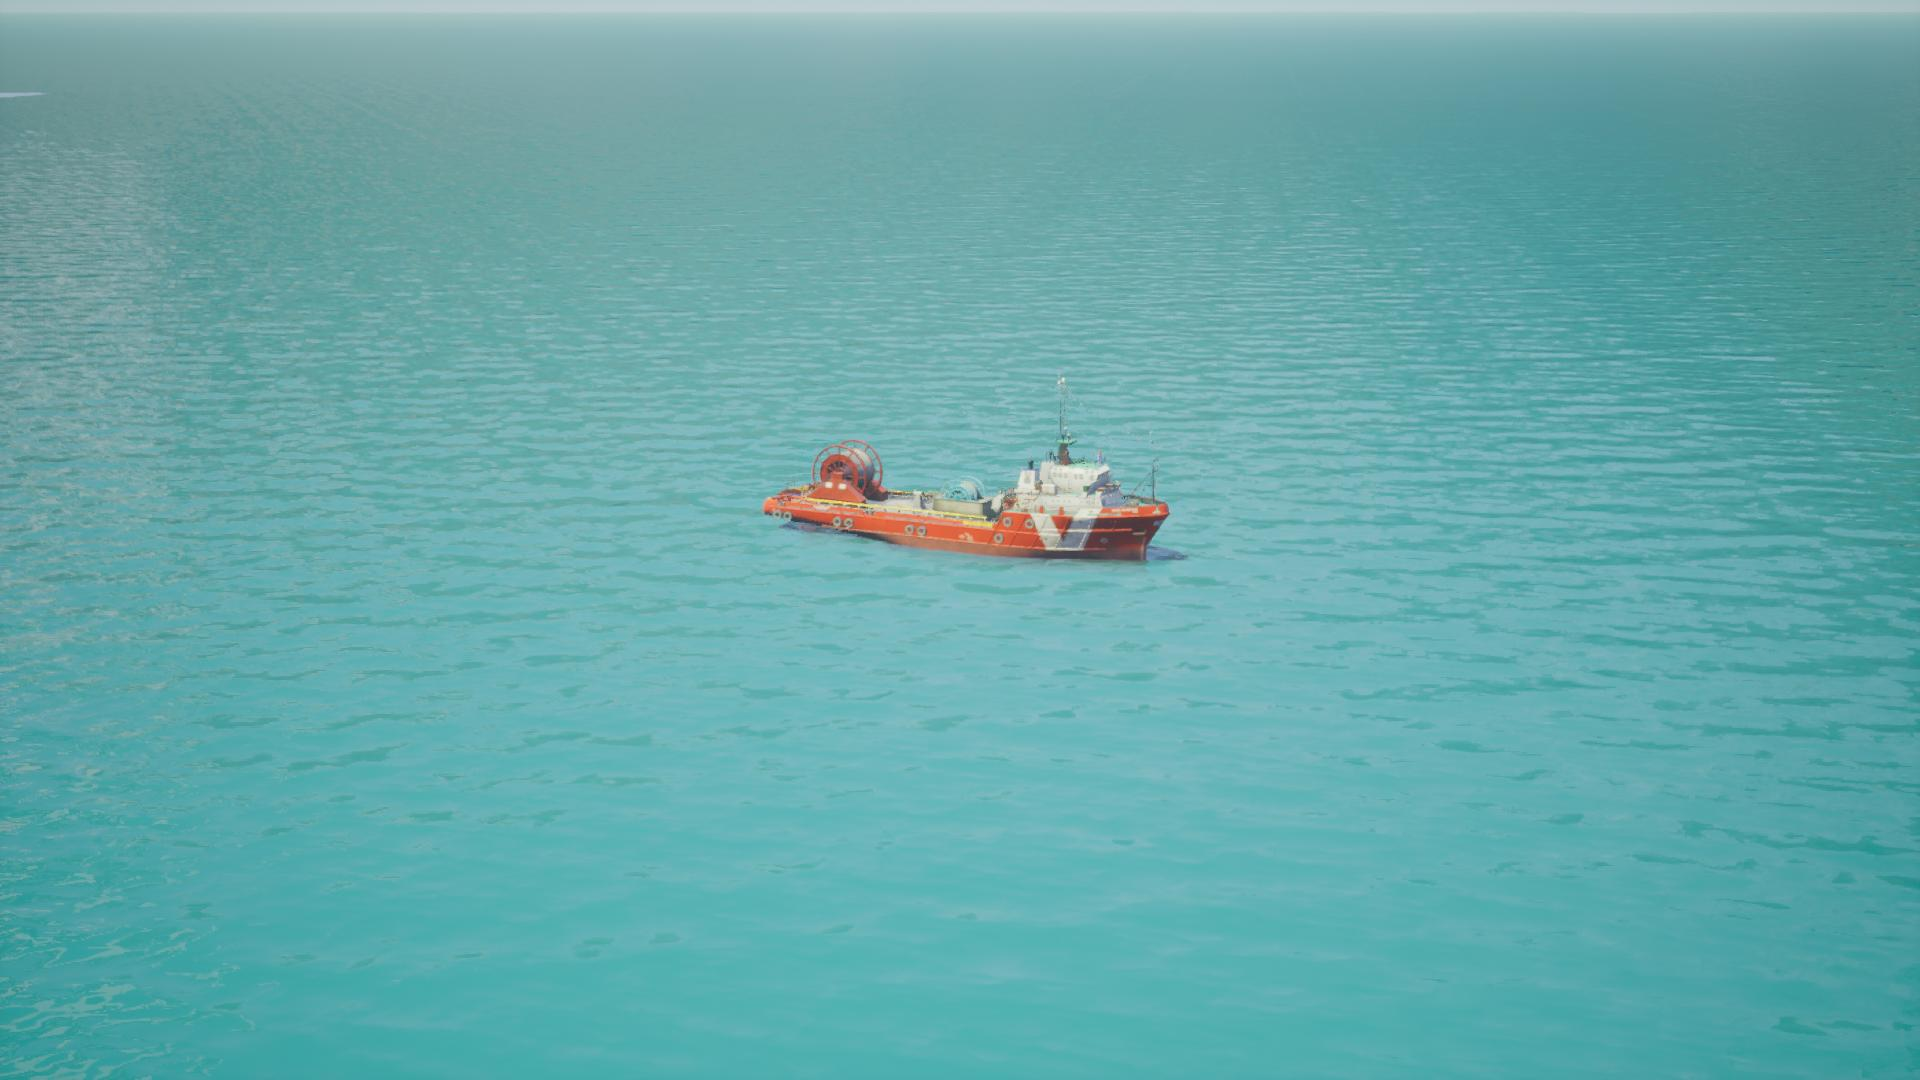Tug Boat: (758, 376, 1178, 570)
